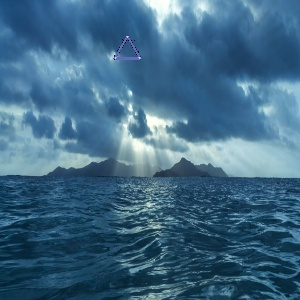triangle: (111, 33, 144, 62)
